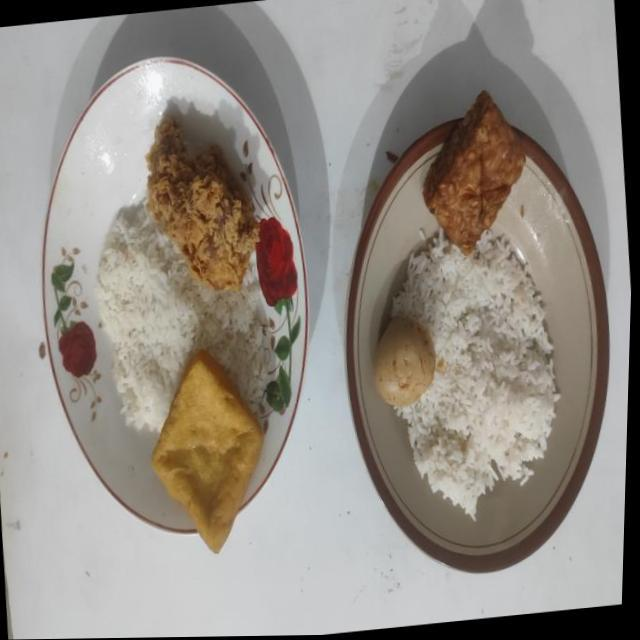nasi_putih: (392, 229, 558, 516), (96, 204, 274, 430)
tahu_goreng: (152, 350, 264, 552)
tempe_goreng: (422, 90, 525, 254)
